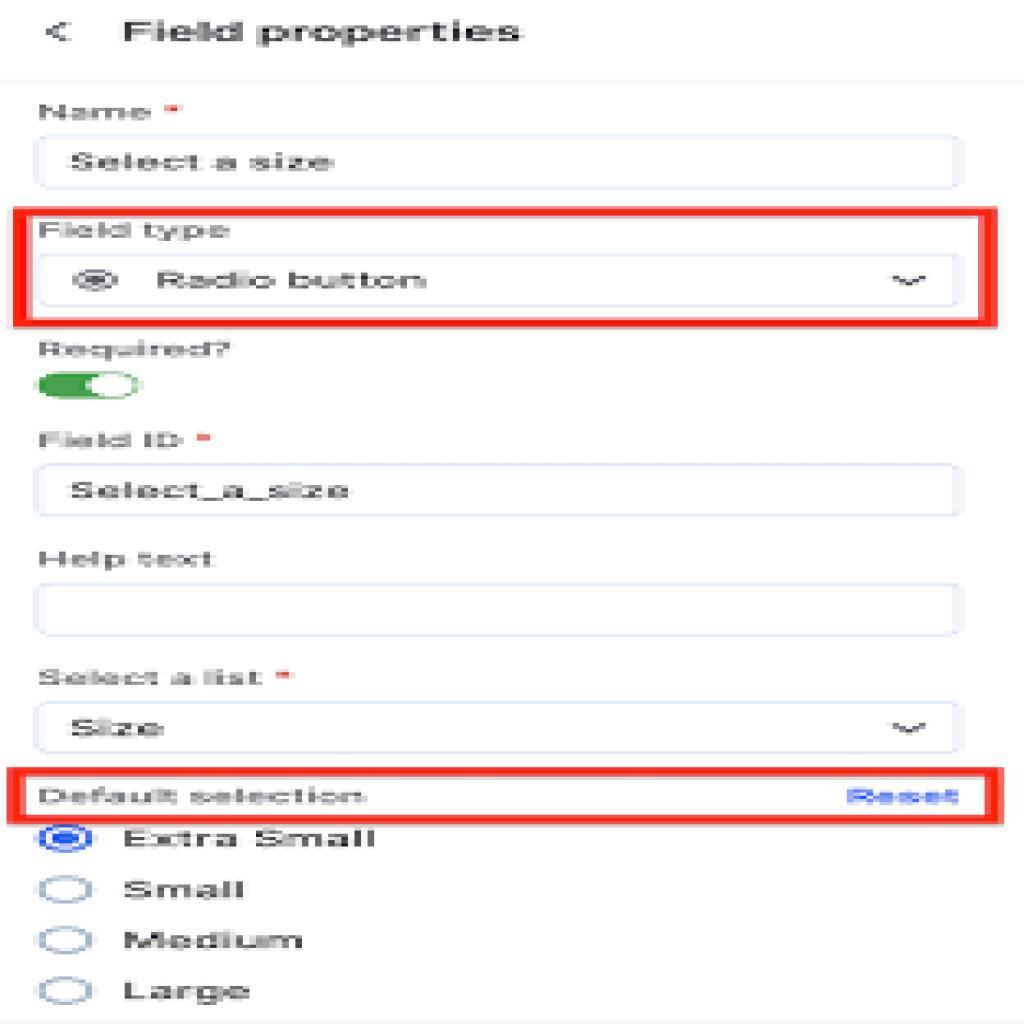dropdown: (41, 254, 963, 309), (35, 703, 956, 752)
icon: (42, 17, 76, 46)
input: (35, 462, 961, 517), (34, 582, 961, 636), (37, 137, 956, 191)
label: (120, 15, 524, 50), (37, 662, 301, 696), (124, 827, 382, 856), (120, 928, 312, 959), (32, 220, 235, 249), (35, 425, 217, 456), (38, 550, 222, 579), (120, 875, 256, 911), (35, 337, 242, 360), (35, 100, 196, 126), (122, 978, 256, 1008)
radio: (36, 975, 98, 1008), (34, 825, 96, 855), (36, 875, 95, 906), (36, 926, 95, 955), (70, 269, 122, 295)
switch: (36, 373, 147, 400)
